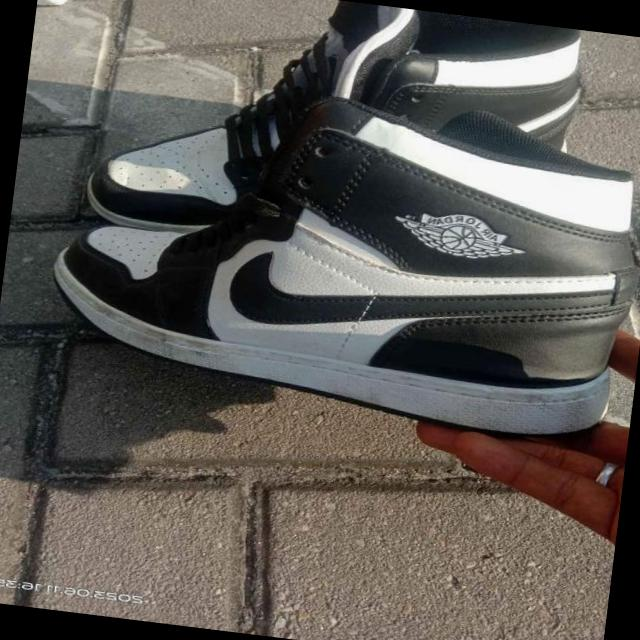nike_fake_jordan: (33, 54, 640, 447), (74, 0, 595, 281)
